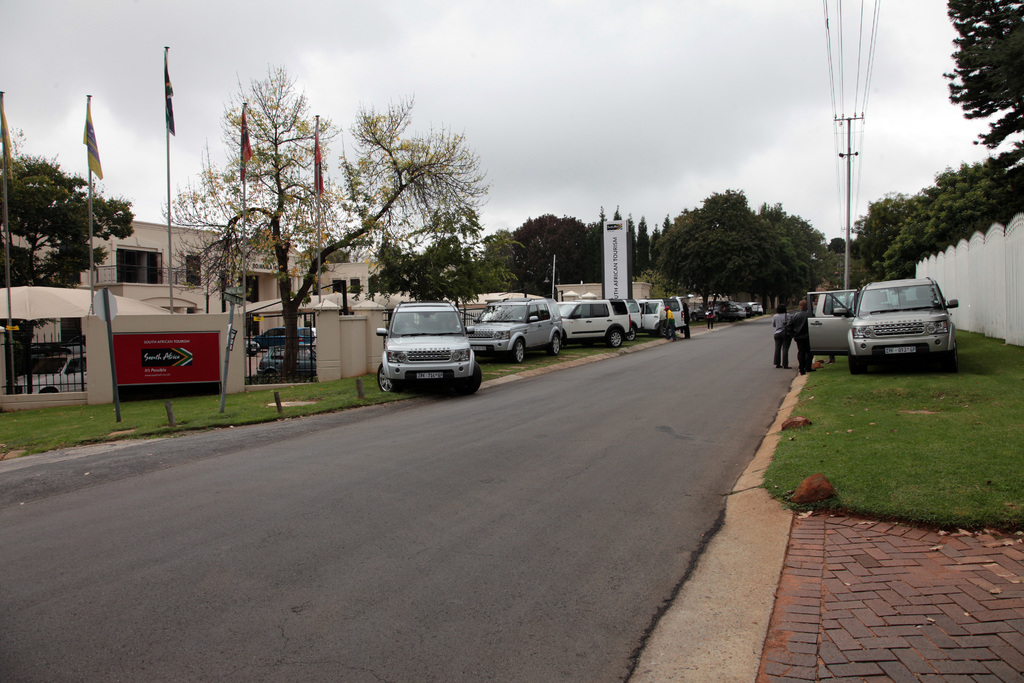Car: (376, 294, 693, 392), (806, 276, 958, 374), (12, 352, 85, 391), (256, 345, 314, 374), (250, 326, 312, 349), (696, 301, 737, 322), (732, 301, 762, 315), (739, 301, 752, 316)
